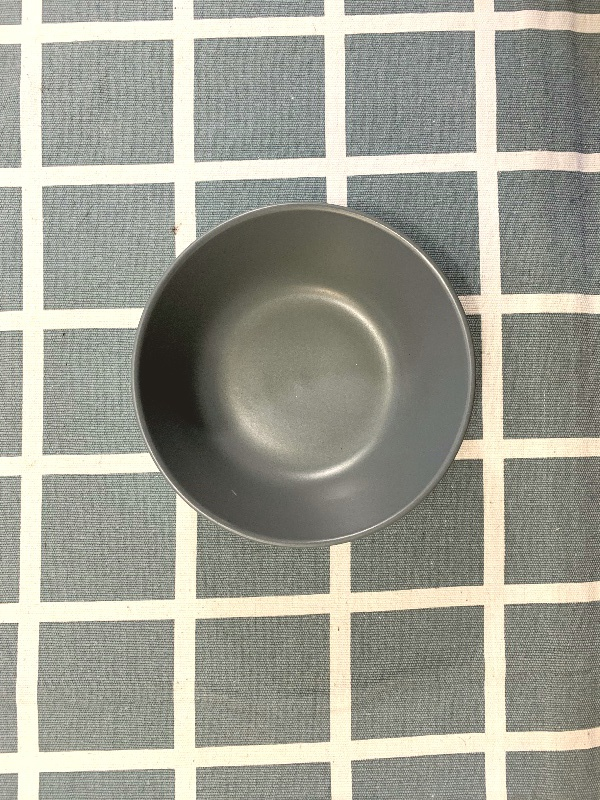bowl_big: (126, 180, 489, 557)
